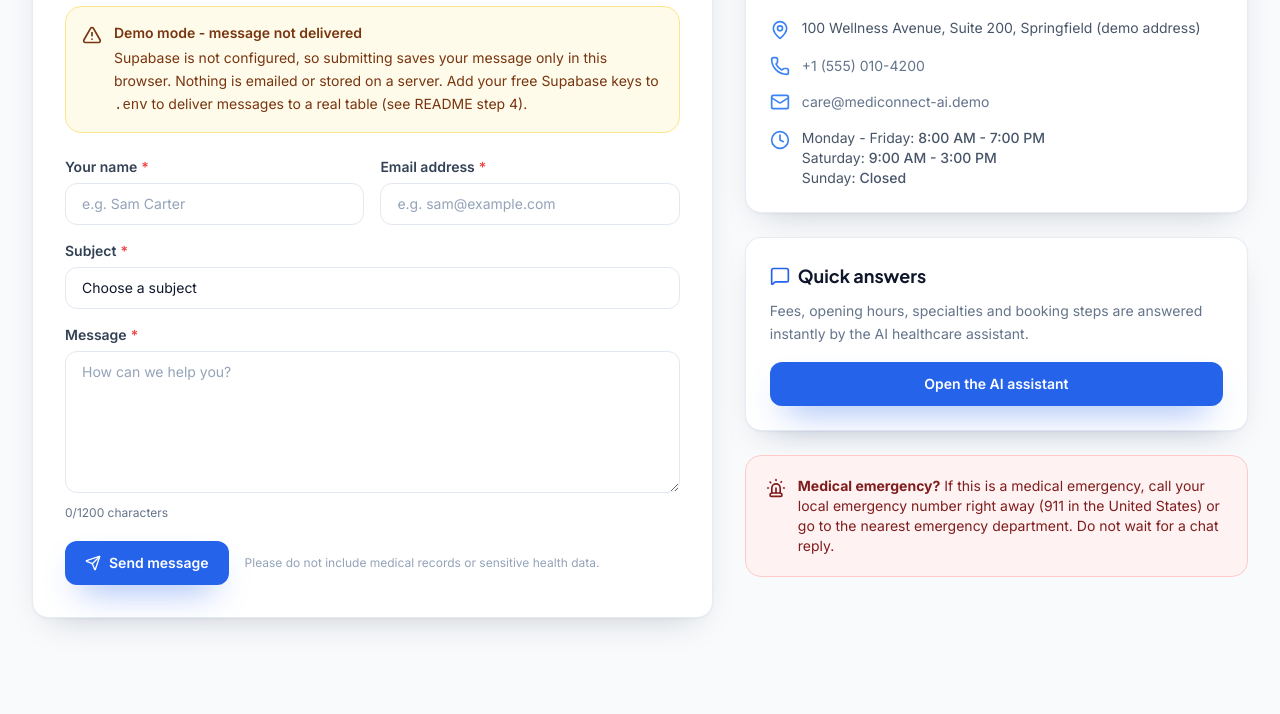
Test: ContactPage form validation › shows errors when submitting an empty form
(page scrolled)
Click the button "Send message": (147, 563) [65,541,229,585]
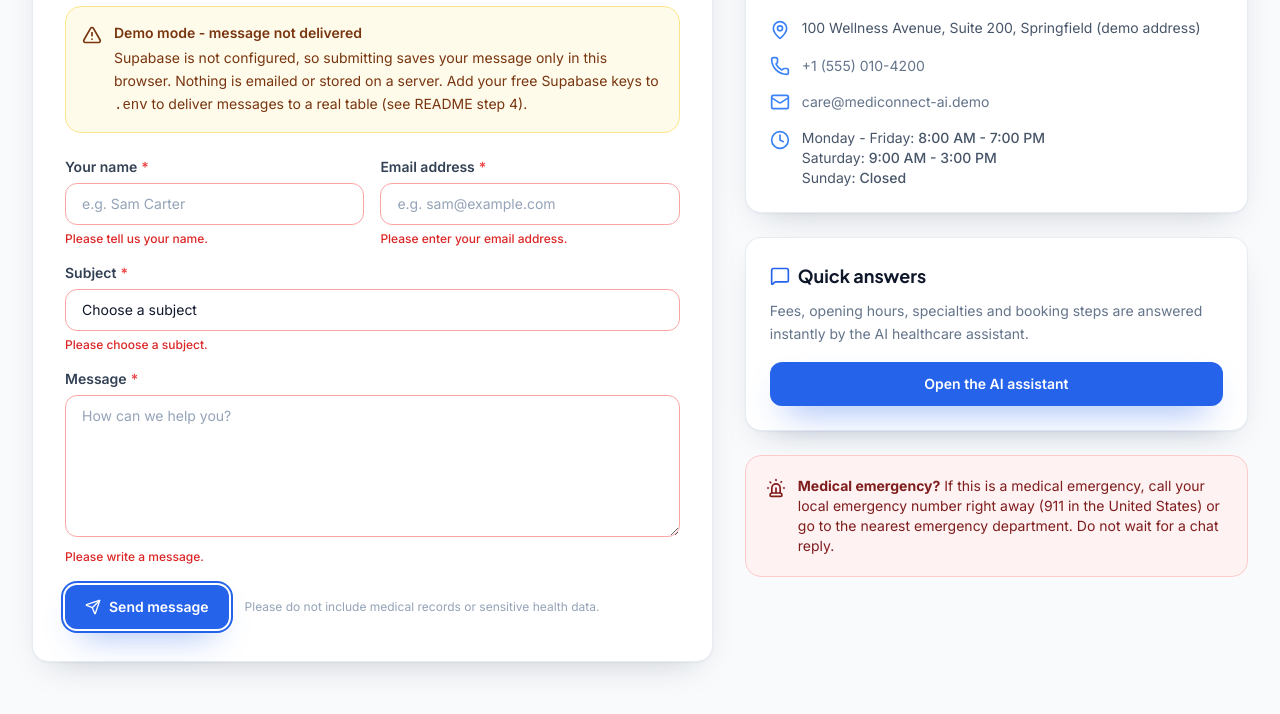
Result: the text "Please tell us your name." is shown at [65,231,208,246]
Result: the text "Please enter your email address." is shown at [380,231,567,246]
Result: the text "Please choose a subject." is shown at [65,337,208,352]
